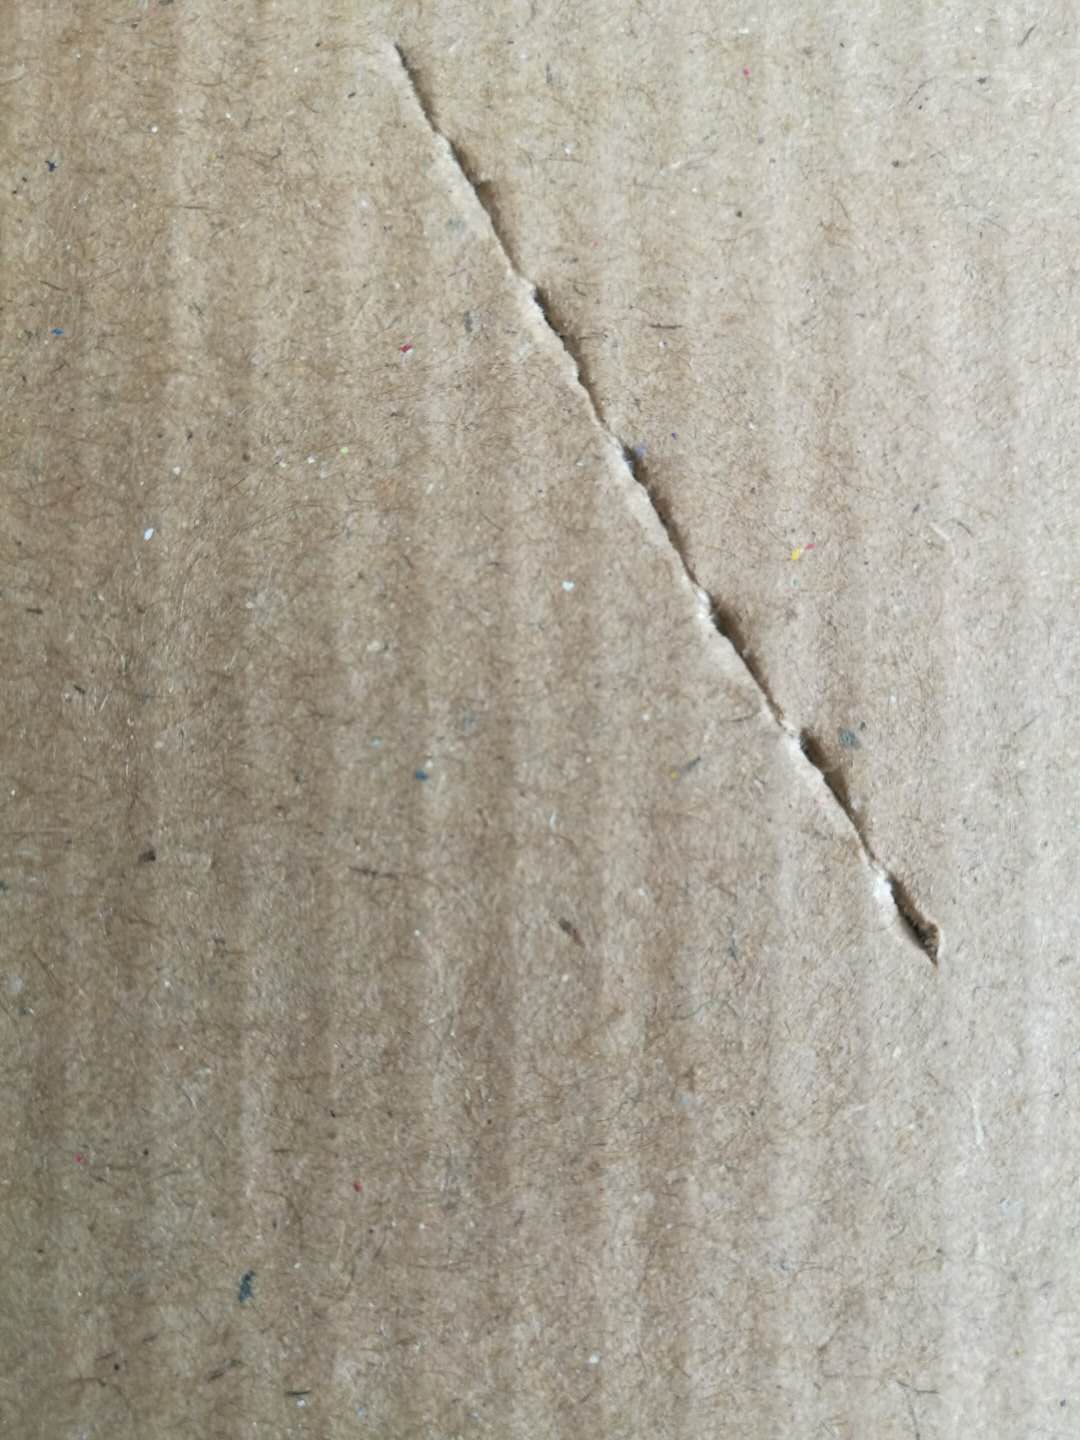defect: (355, 22, 974, 993)
